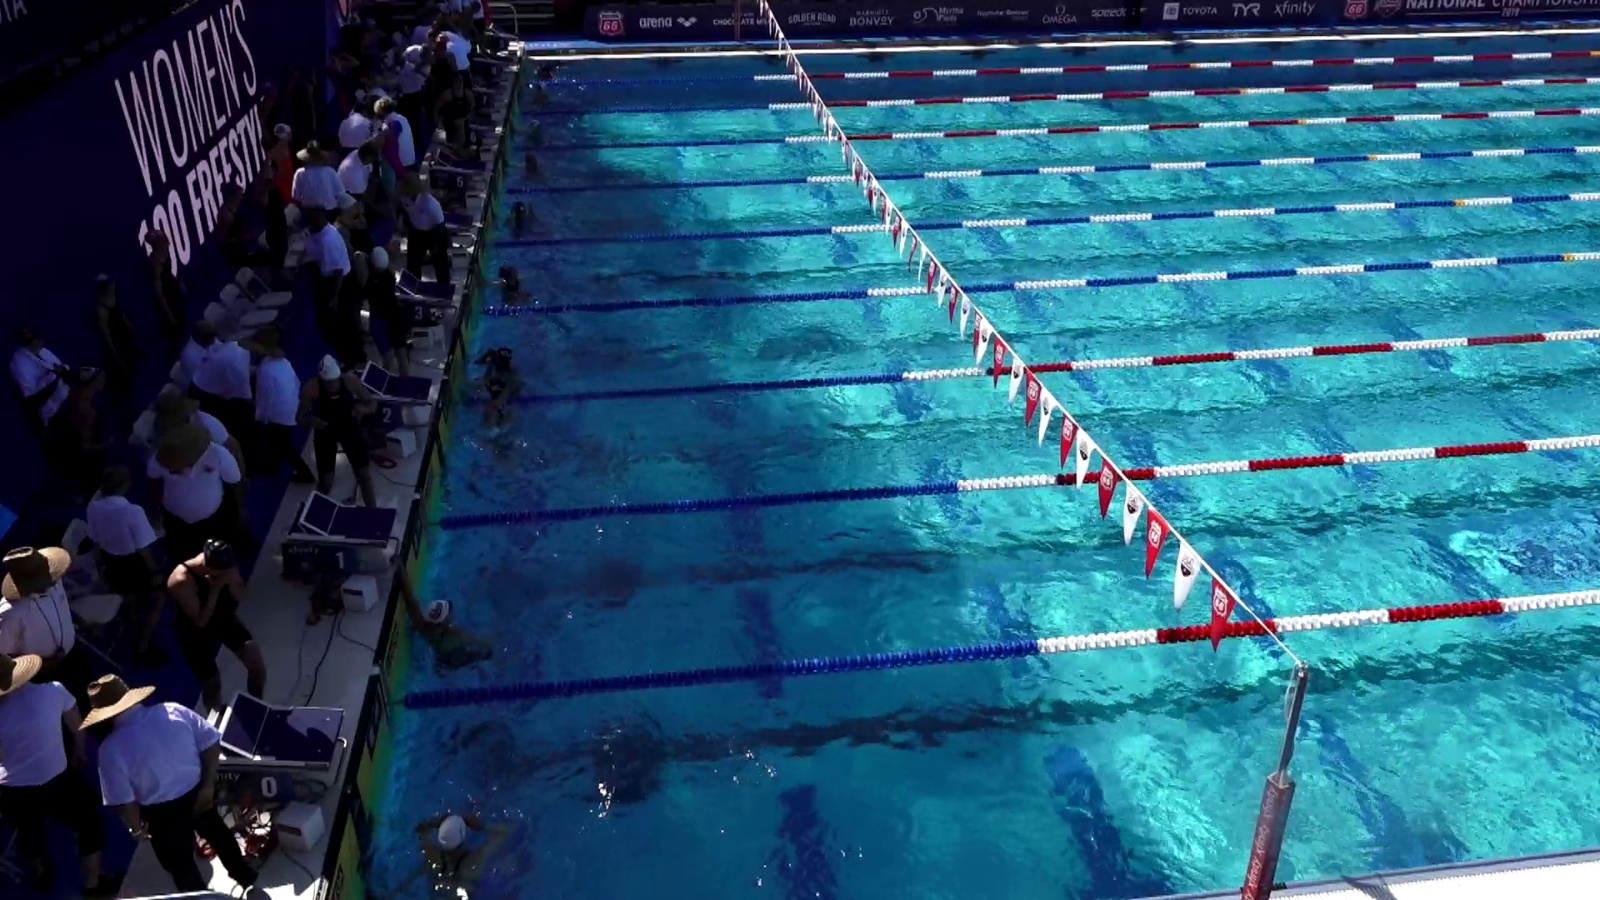swimmerw: (393, 557, 497, 684), (405, 804, 511, 900), (479, 392, 524, 456), (476, 346, 523, 405), (495, 264, 527, 312), (503, 203, 538, 238), (511, 119, 545, 148), (523, 154, 546, 186), (527, 82, 549, 107), (533, 63, 555, 82)
